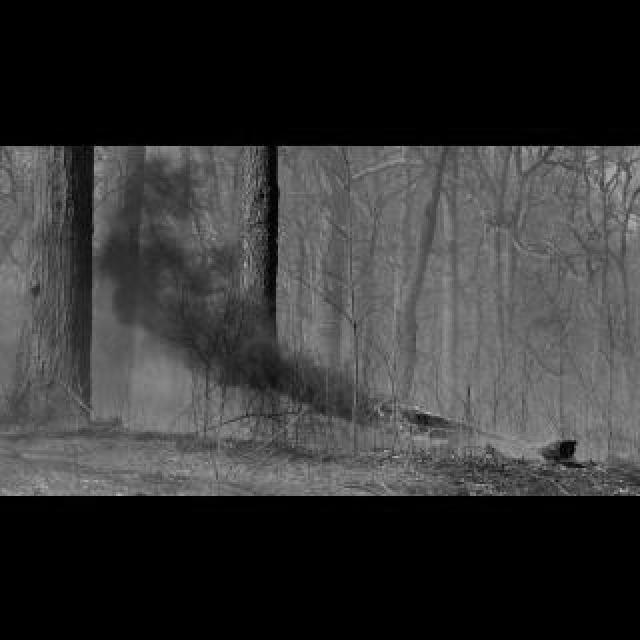Fire: (356, 386, 436, 440)
Smoke: (98, 146, 234, 310), (188, 362, 358, 426), (108, 312, 288, 360)
